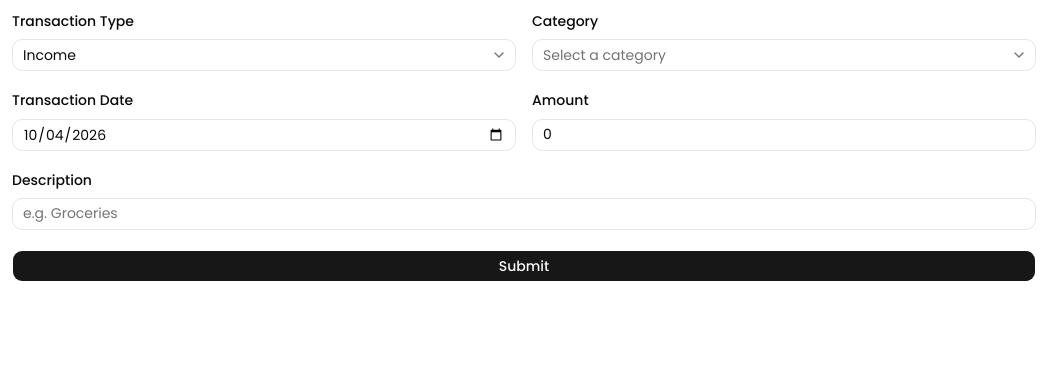
Test: TransactionForm › shows validation errors and doesn't submit an empty form
What coordinates should you click on to do the following:
click the button "Submit"
I would click on:
 (524, 266)
Its box is [12,250,1036,282].
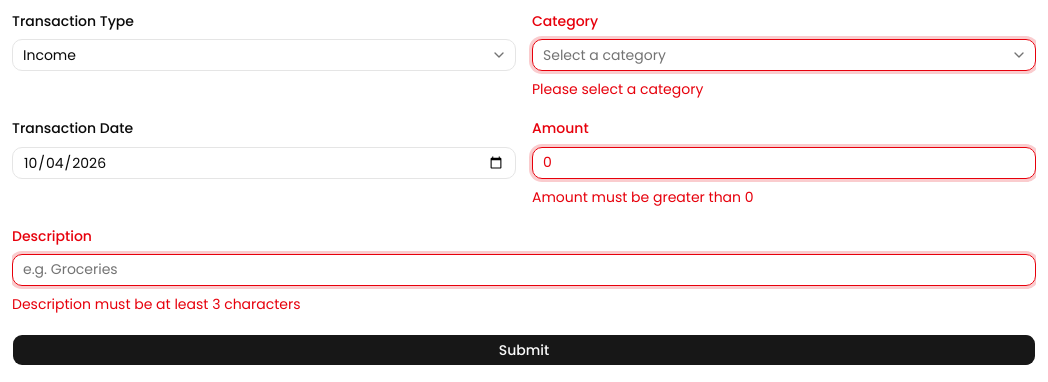
expect the text "Please select a category" is shown: met, box [532,79,703,99]
expect the text "Amount must be greater than 0" is shown: met, box [532,186,754,206]
expect the text "Description must be at least 3 characters" is shown: met, box [12,294,300,314]
